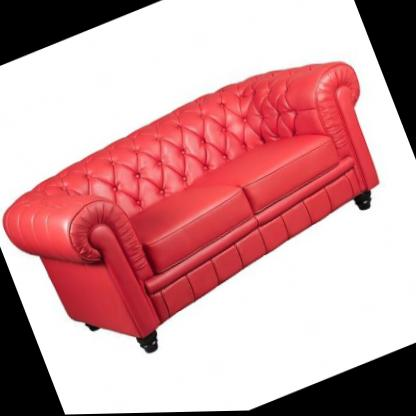Sofa: (0, 32, 416, 390)
